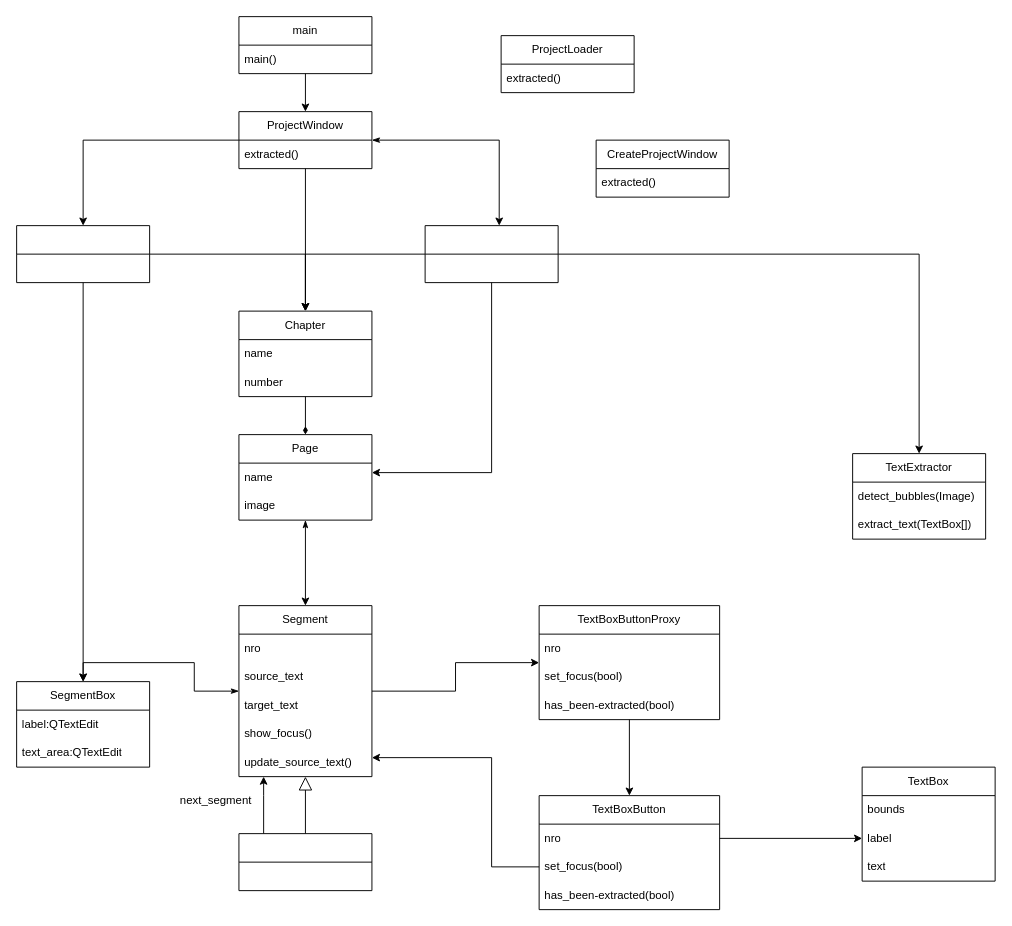
This 1012x926 diagram has some shape labels left out. Here are the shapes that lost their labels. From the top down, the centre of each, then its label:
the point at 83,254: TextViewer
the point at 491,254: ImageViewer
the point at 305,862: SegmentCombined
